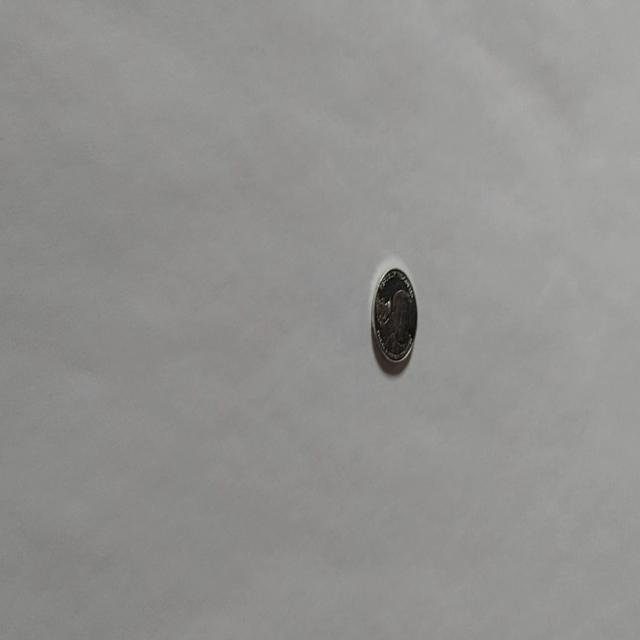seratus rupiah: (370, 264, 418, 366)
